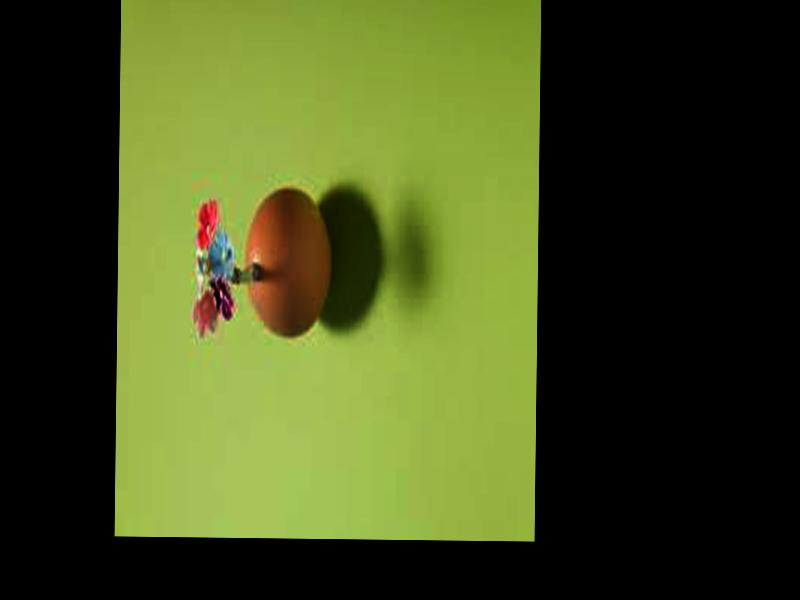Eggs: (245, 189, 333, 337)
